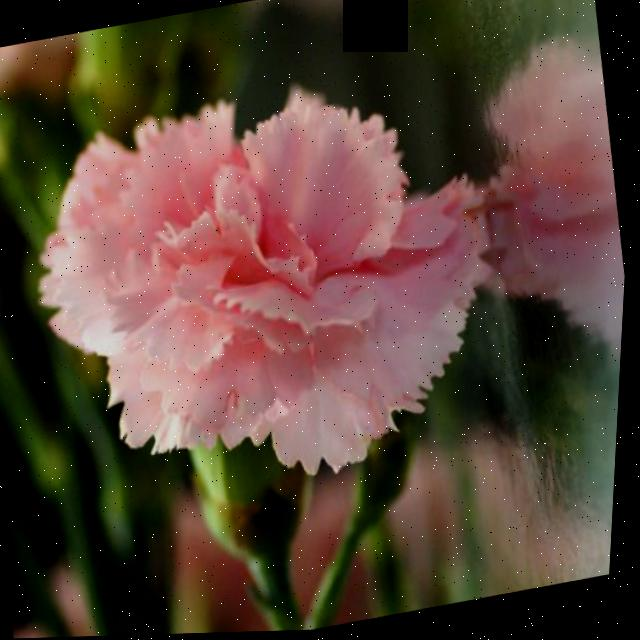carnation: (7, 51, 533, 520)
